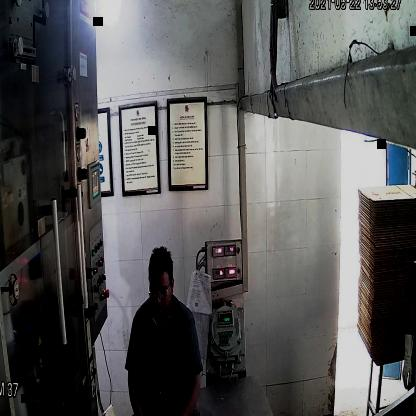goggles: (146, 280, 172, 303)
